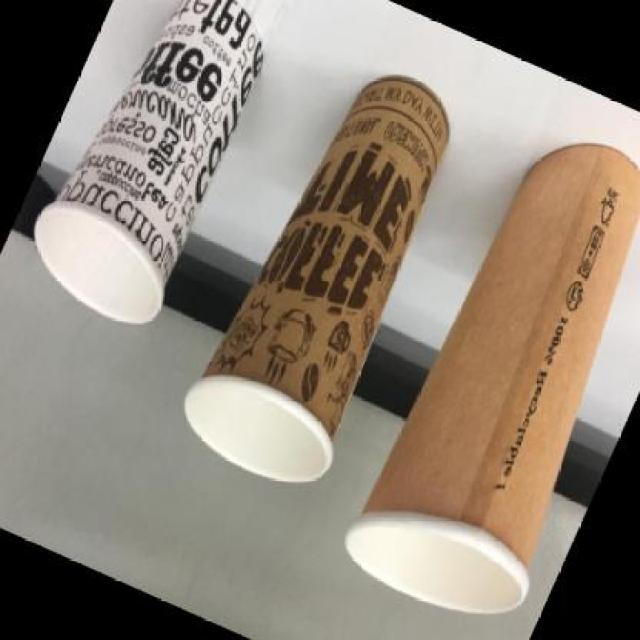non-biodegradable: (326, 94, 640, 634), (165, 34, 493, 488), (12, 0, 312, 338)
